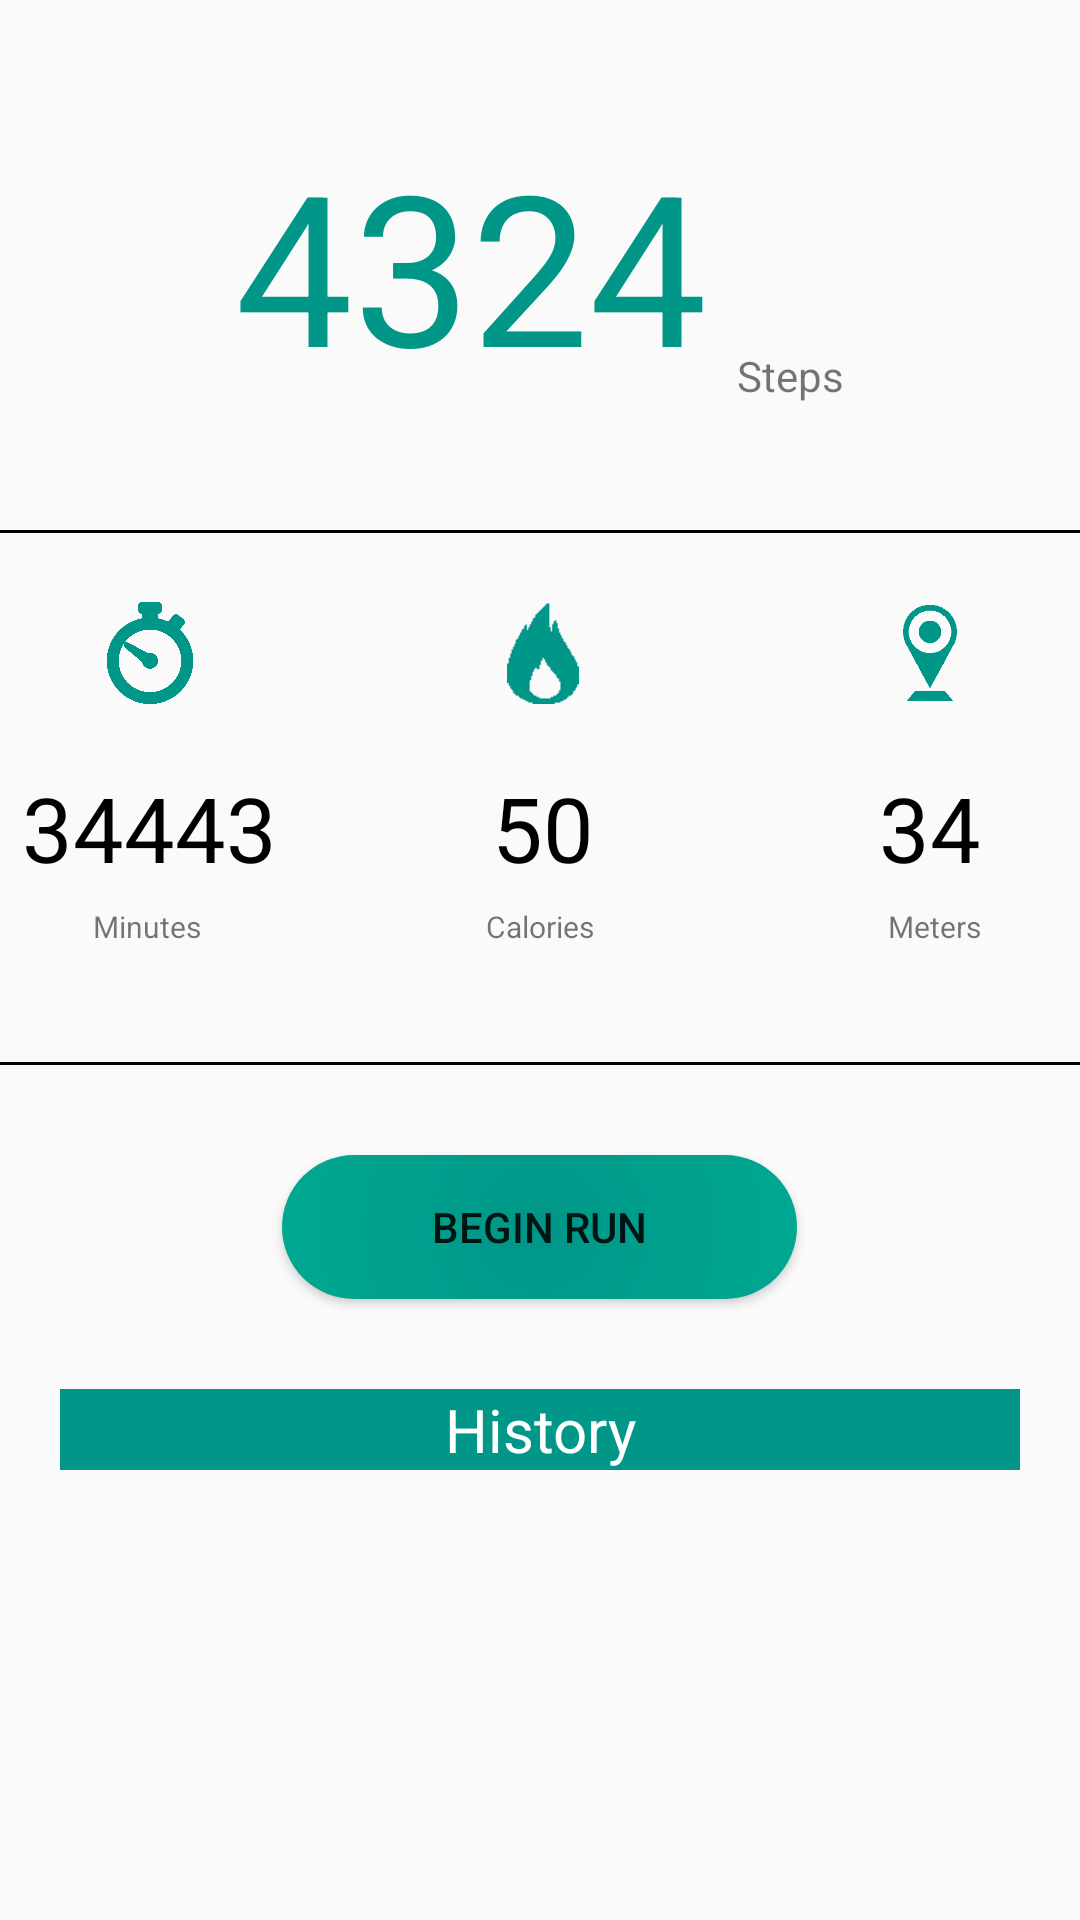

Locate icon controls on the screen. Image size 1080 × 1920, boxes as region(x1, y1, x2, y2).
calories: region(507, 603, 579, 704)
loc: region(903, 605, 957, 701)
time: region(107, 602, 193, 704)
